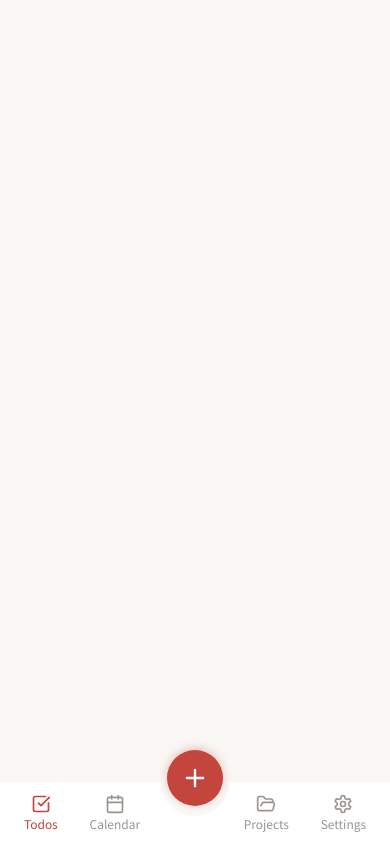
BottomNav - center FAB button › opens AddTodoModal when add button is clicked
Click the button with test id "bottom-nav-add": (195, 778) [167, 750, 223, 806]
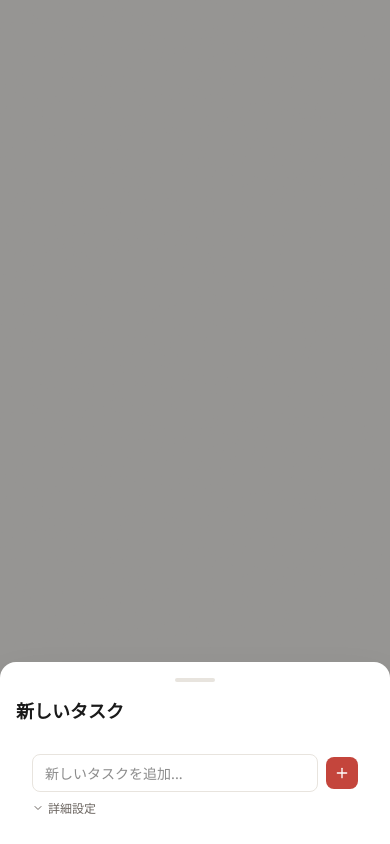
Expected: the heading "新しいタスク" is shown, [16, 702, 124, 722]
